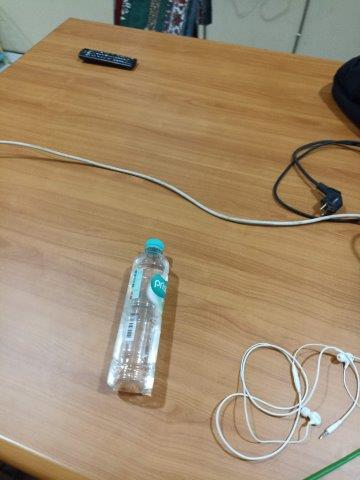botolplastik: (107, 237, 169, 394)
